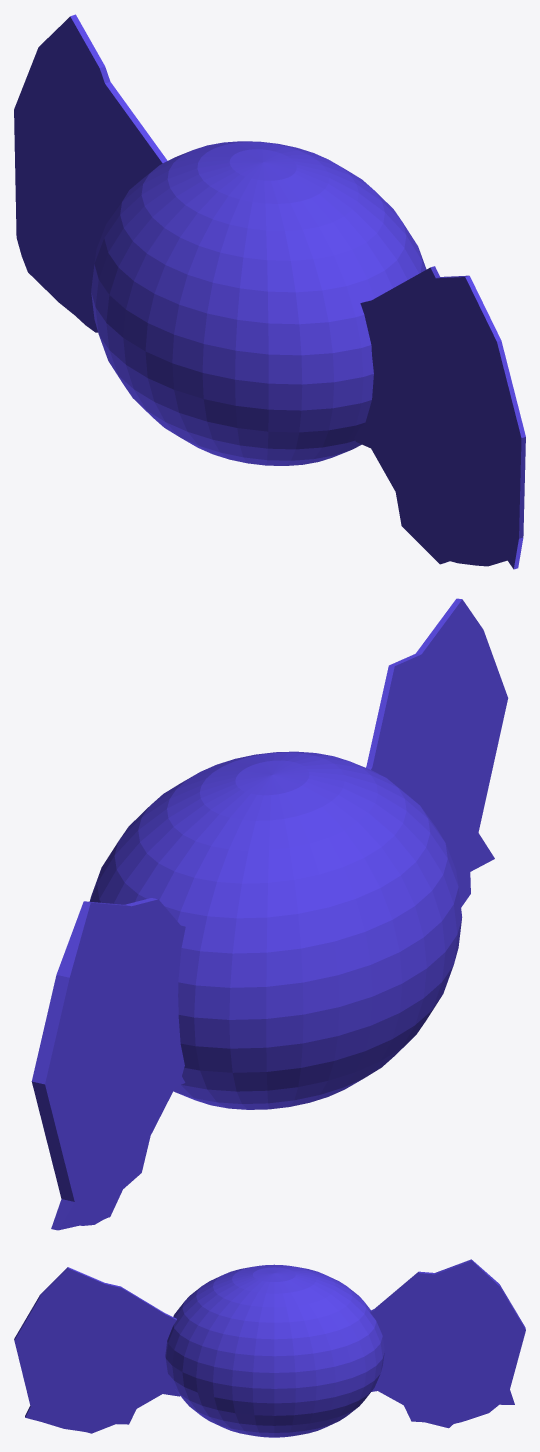
Rendered from Candy_3.fbx.
3 views of the same model, one above another, from view 1: azimuth 30°, elevation 25°; view 2: azimuth 150°, elevation 25°; view 3: azimuth 270°, elevation 25° (orthographic). The views are drawn at different scales.
Parts seen in each view (by area): view 1: Sphere, Cube, Cube.002; view 2: Sphere, Cube.002, Cube; view 3: Sphere, Cube, Cube.002.
Boxes of the visible parts, bbox=[...] form: Sphere: bbox=[91, 141, 426, 465]; Cube: bbox=[354, 266, 525, 569]; Cube.002: bbox=[14, 14, 167, 332]; Sphere: bbox=[89, 751, 462, 1109]; Cube.002: bbox=[31, 898, 185, 1230]; Cube: bbox=[366, 598, 508, 907]; Sphere: bbox=[165, 1264, 384, 1437]; Cube: bbox=[14, 1267, 179, 1433]; Cube.002: bbox=[369, 1259, 525, 1428].
Bounding box in the file's own units: 81.92 × 84.43 × 235.
